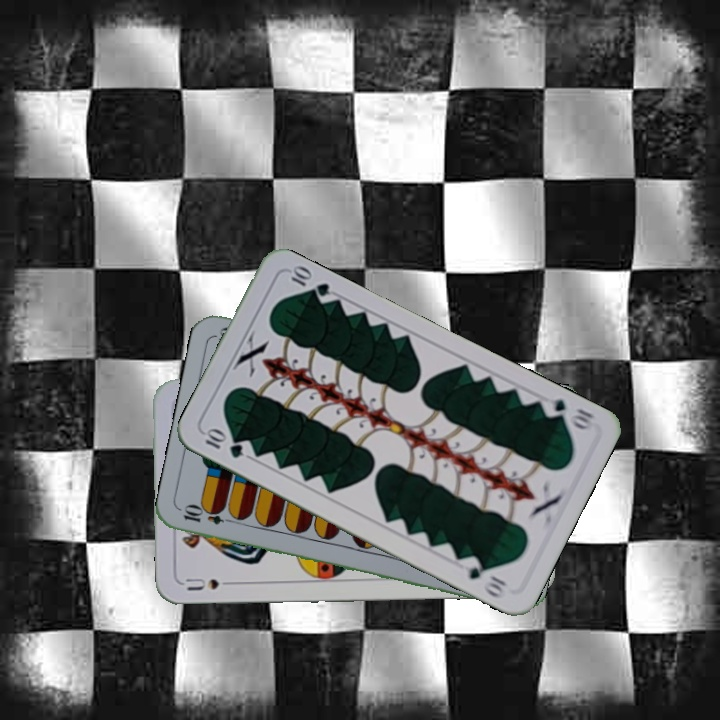E10: (179, 504, 238, 528)
G10: (538, 393, 597, 434), (199, 425, 247, 461)
SU: (181, 574, 239, 593)
